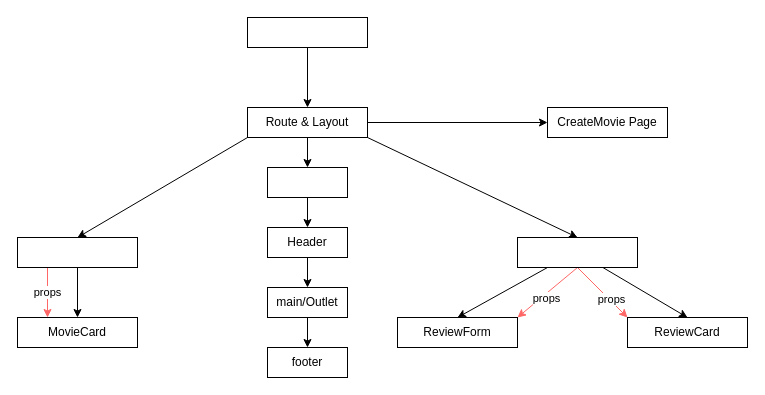
The diagram is 765 pixels wide and 395 high, and some of its shapes have lost their labels. Here are the shapes that lost their labels. From the top down, the centre of each, then its label:
At (x=307, y=32): "APP".
At (x=307, y=182): "Layout".
At (x=77, y=252): "HomePage".
At (x=577, y=252): "MoviePage".
